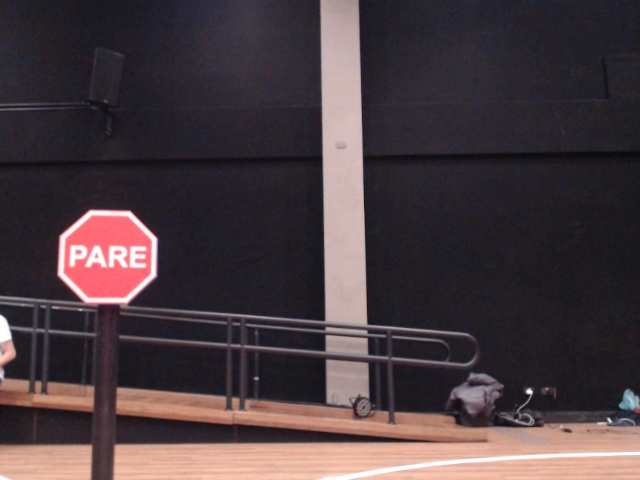SEMAFORO: (10, 180, 215, 369)
